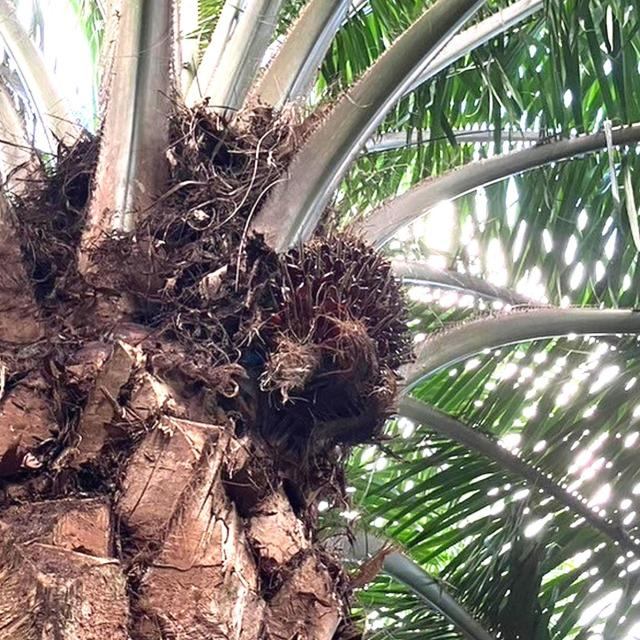ripe: (268, 229, 416, 407)
